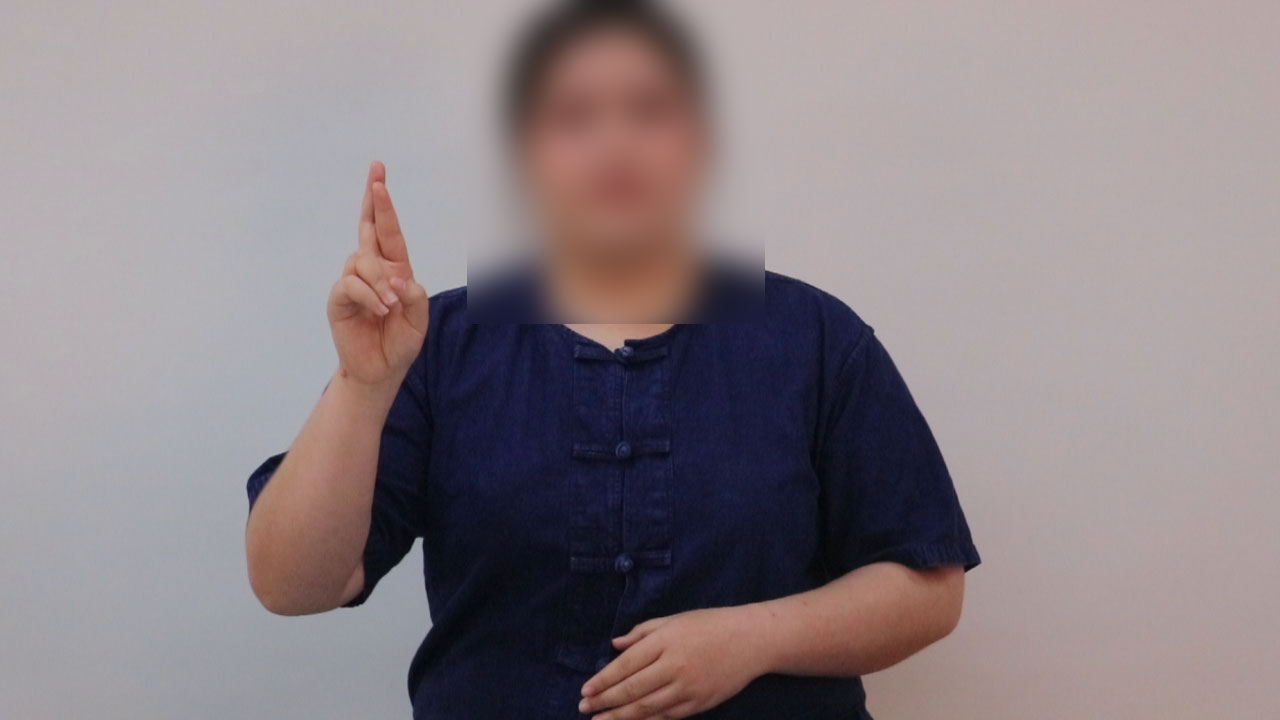rao: (303, 156, 439, 421)
